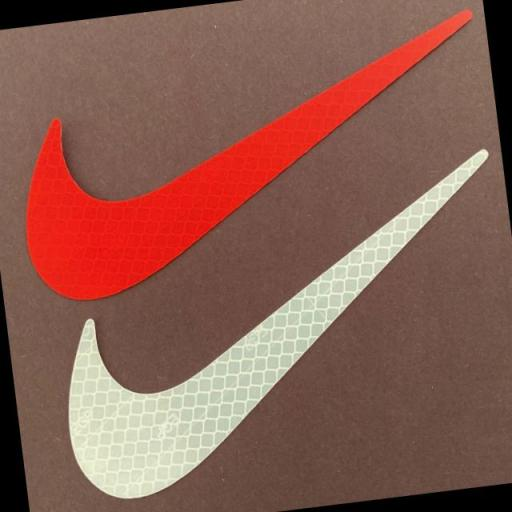Nike: (4, 6, 506, 312)
